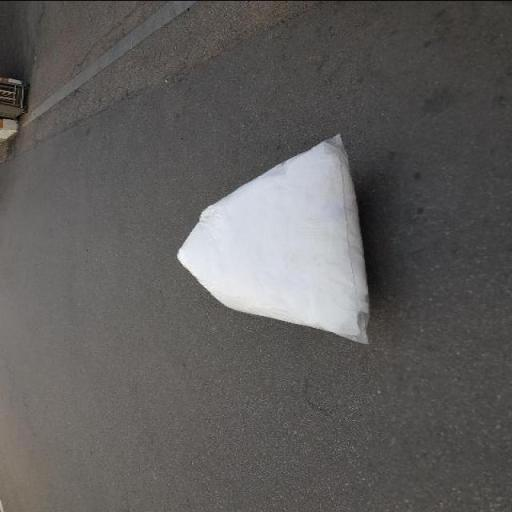plastic-bag: (182, 128, 374, 339)
